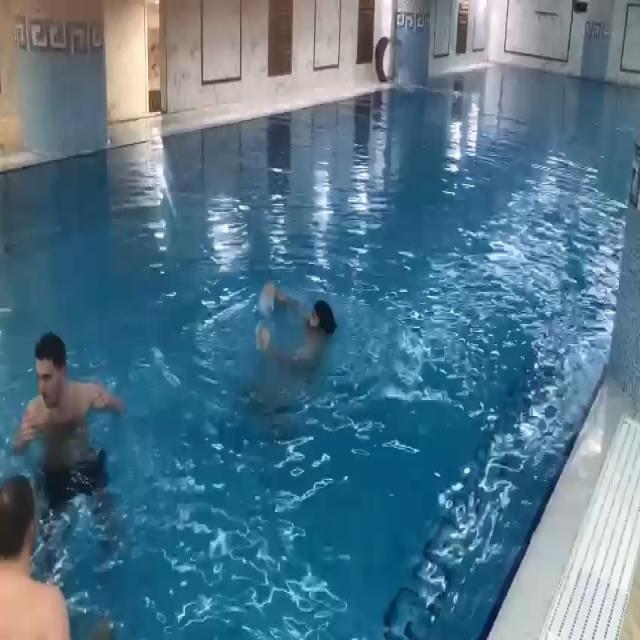Drowning: (255, 278, 341, 382)
Swimming: (11, 329, 123, 470)
